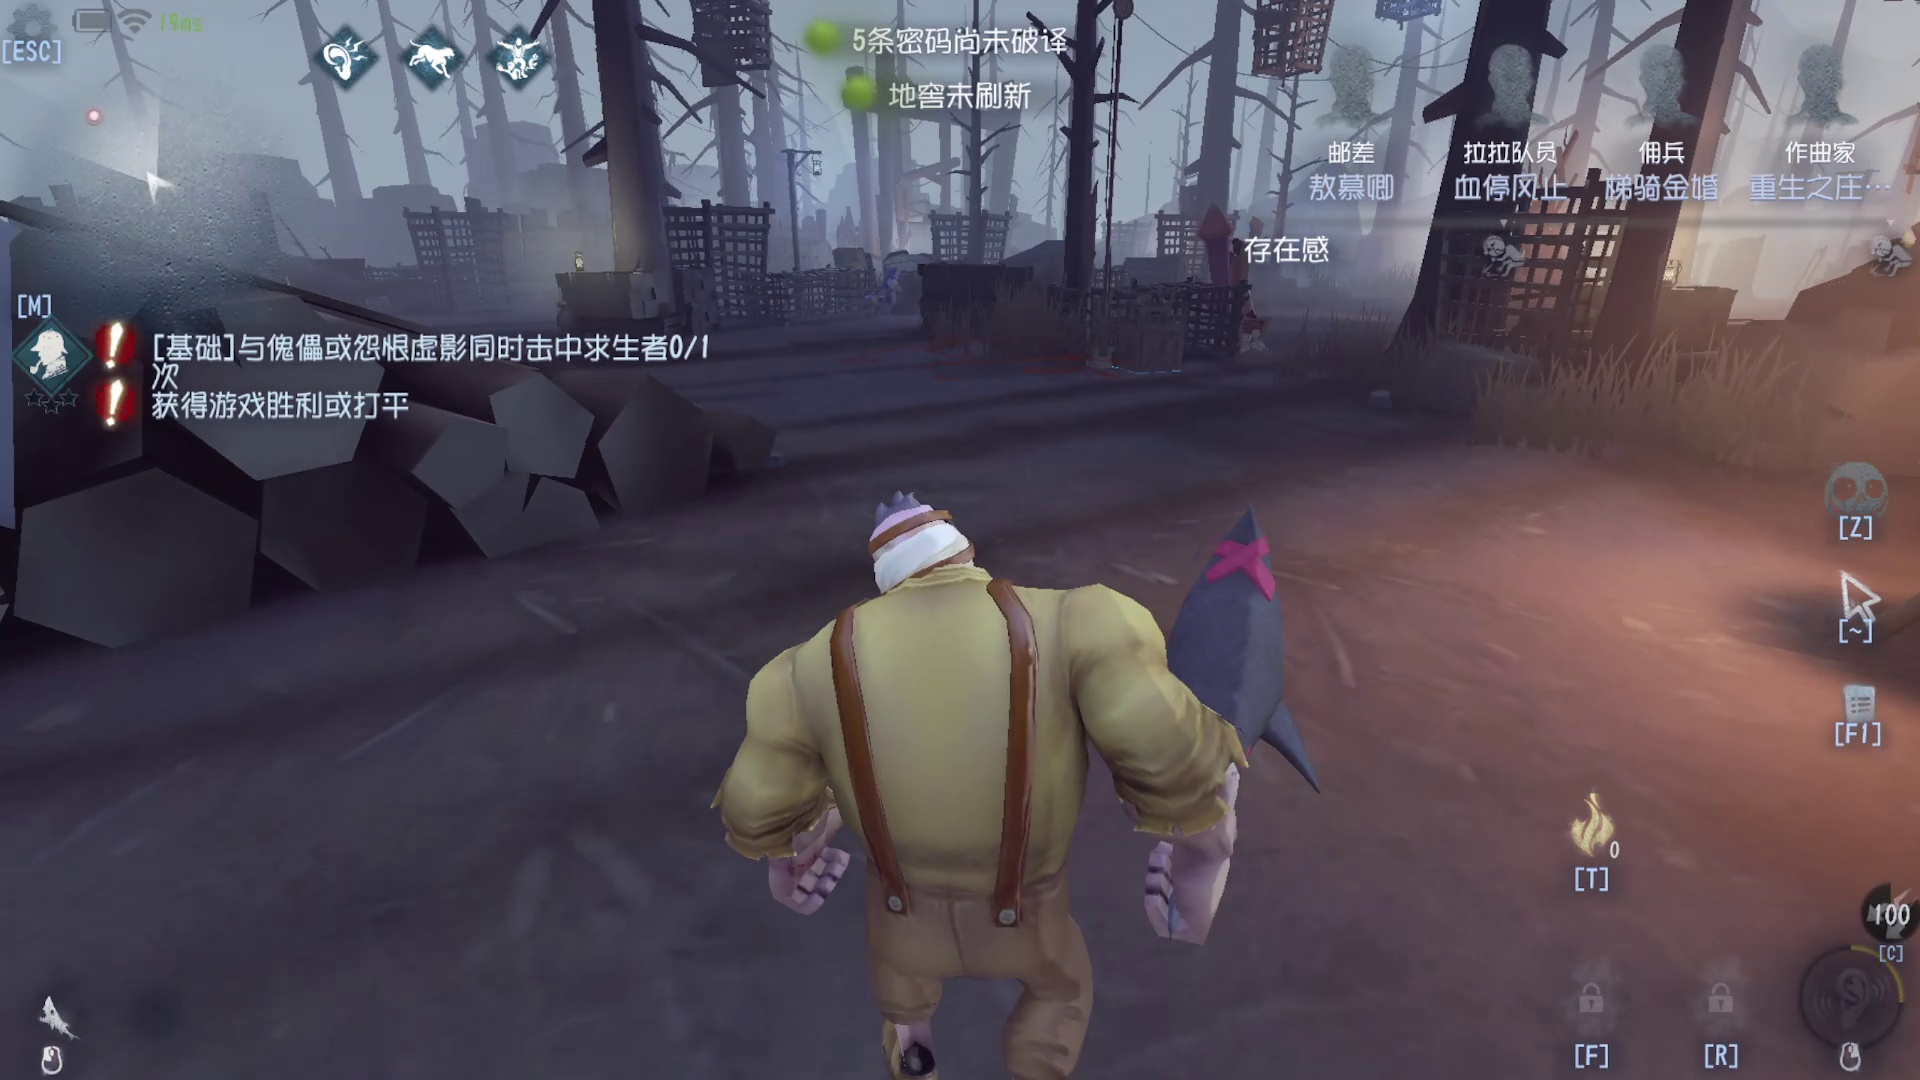求生者: (857, 261, 934, 327)
狂欢之椅: (1199, 181, 1267, 343)
